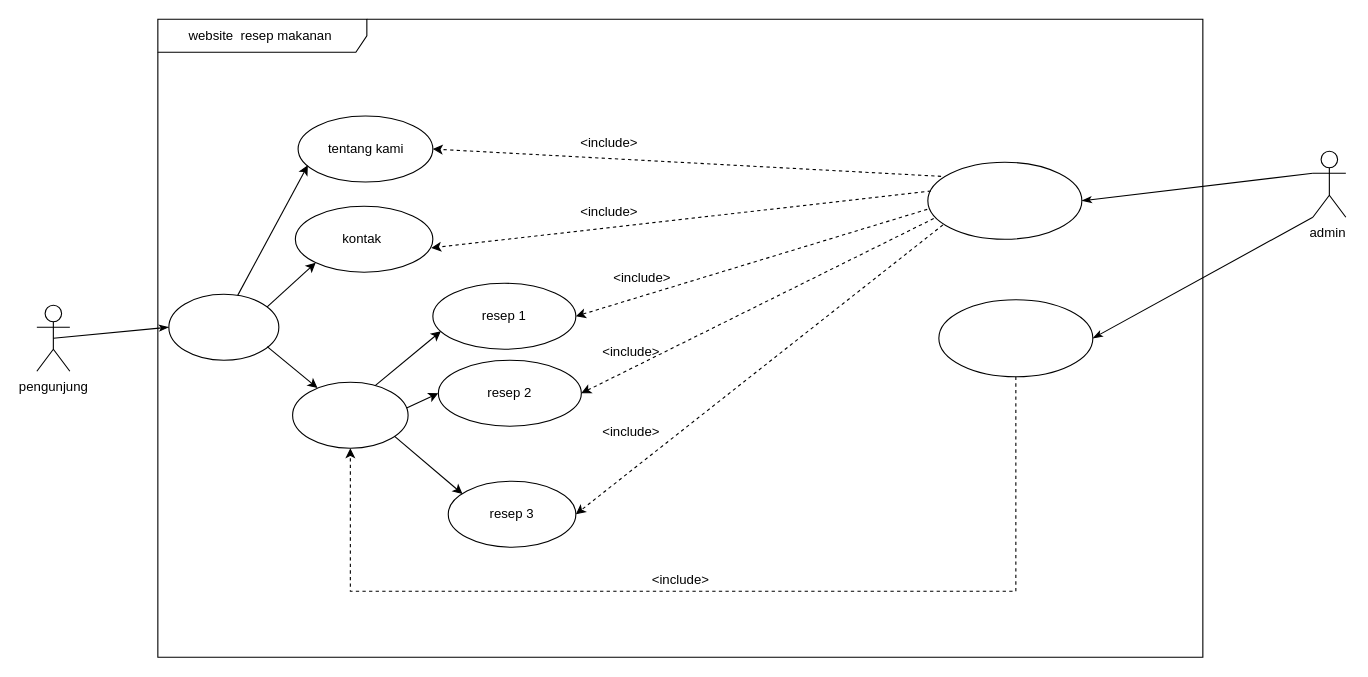
Image size: 1368x677. Some labels were removed from this diagram. Each missing label, with the box of its shape:
masuk web: (168, 293, 279, 360)
Mengedit data: (938, 299, 1093, 377)
Mengeloa data: (927, 161, 1082, 239)
resep makanan: (292, 381, 408, 448)
